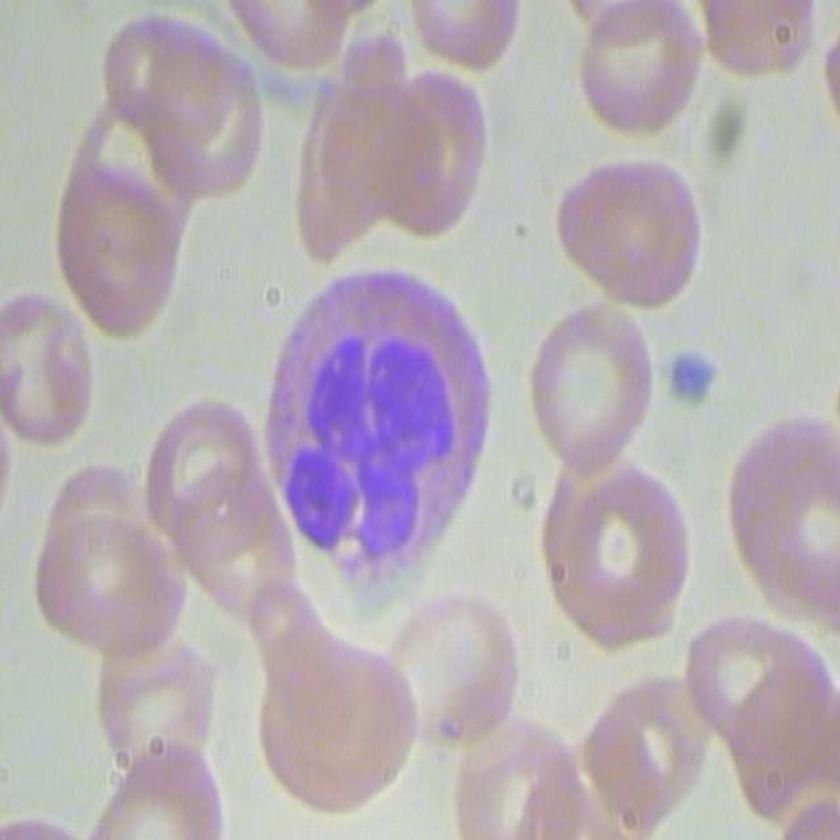monocyte: (250, 253, 505, 605)
